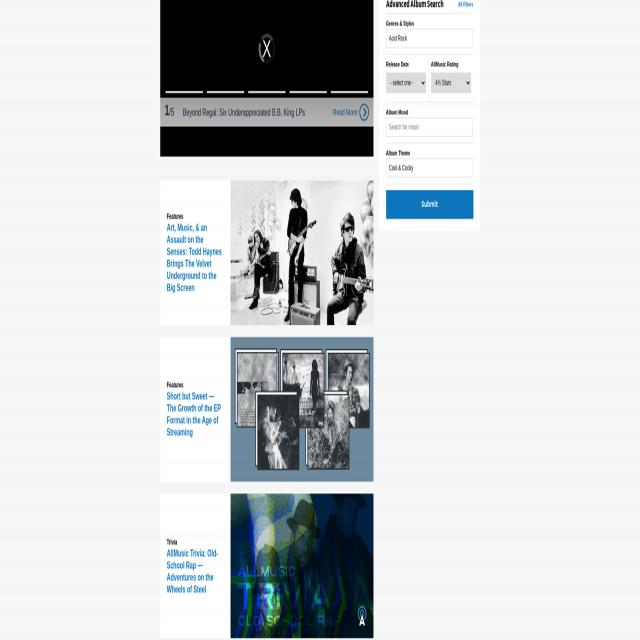button: (160, 0, 374, 157), (230, 336, 374, 482), (230, 180, 374, 325), (231, 494, 374, 639), (386, 190, 473, 219)
field: (386, 158, 472, 178), (386, 118, 472, 137), (386, 29, 472, 48), (386, 73, 426, 93), (431, 73, 471, 93)
